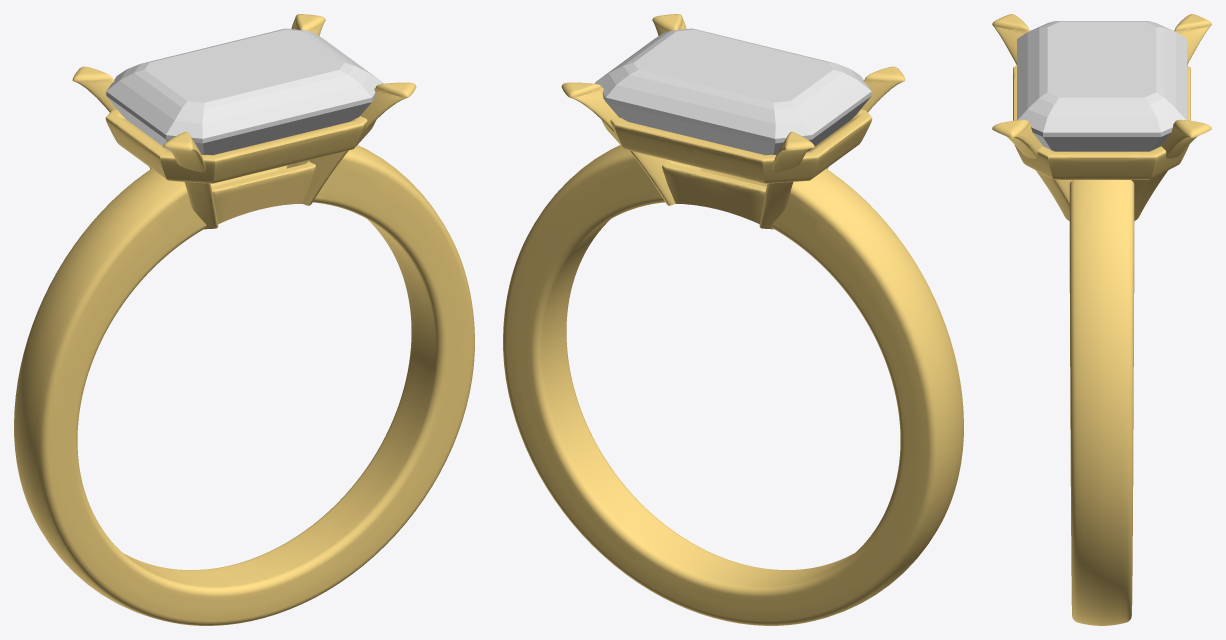
The model's file is sophiaV3ygENG_blender.glb.
3 renders of one model, left to right at view 1: azimuth 30°, elevation 25°; view 2: azimuth 150°, elevation 25°; view 3: azimuth 270°, elevation 25°, orthographic.
Parts seen in each view (by area): view 1: V3 Sophia YG for 3d model, V3 Sophia dia for 3d model; view 2: V3 Sophia YG for 3d model, V3 Sophia dia for 3d model; view 3: V3 Sophia YG for 3d model, V3 Sophia dia for 3d model.
Part boxes in pixels (x1,y1,x2,y2): V3 Sophia YG for 3d model: (14,14,474,625); V3 Sophia dia for 3d model: (106,28,382,155); V3 Sophia YG for 3d model: (503,14,963,625); V3 Sophia dia for 3d model: (595,28,871,155); V3 Sophia YG for 3d model: (992,14,1211,625); V3 Sophia dia for 3d model: (1017,21,1186,151).
Size of the model in its own units: 19.49 by 23.13 by 8.49.
